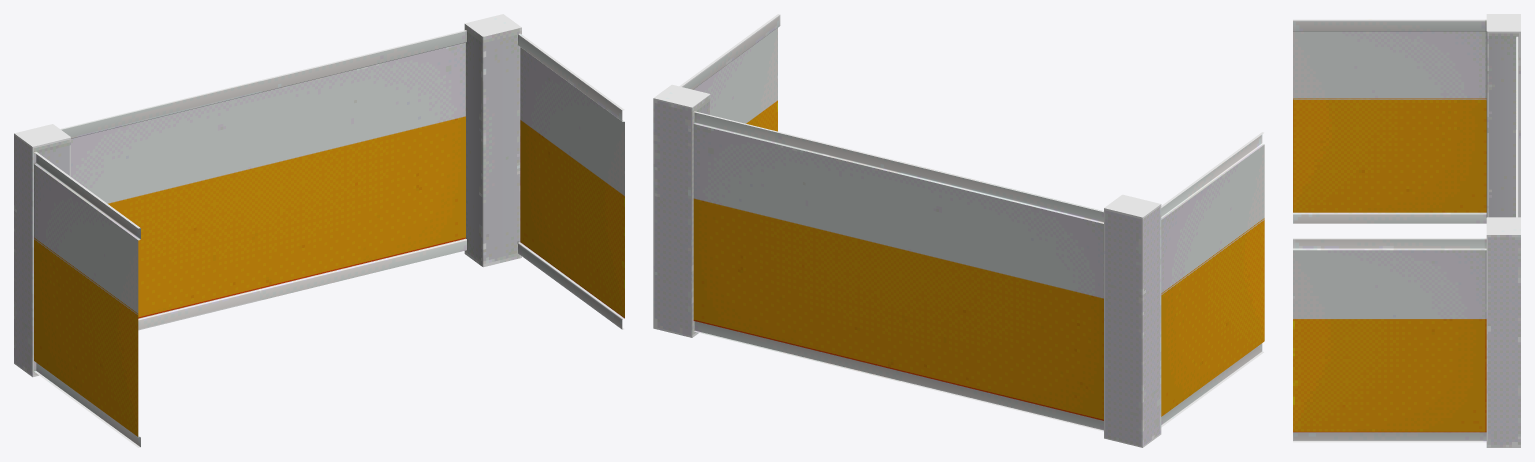
The model's file is Wall.fbx.
The picture shows the model from 3 angles, left to right: view 1: azimuth 30°, elevation 25°; view 2: azimuth 150°, elevation 25°; view 3: azimuth 270°, elevation 25°; orthographic projection. The views are drawn at different scales.
Parts seen in each view (by area): view 1: Wall; view 2: Wall; view 3: Wall.
Part boxes in pixels (x1,y1,x2,y2): Wall: [14, 14, 624, 447]; Wall: [653, 14, 1264, 447]; Wall: [1293, 14, 1520, 447].
Bounding box in the file's own units: 929 × 418 × 405.
